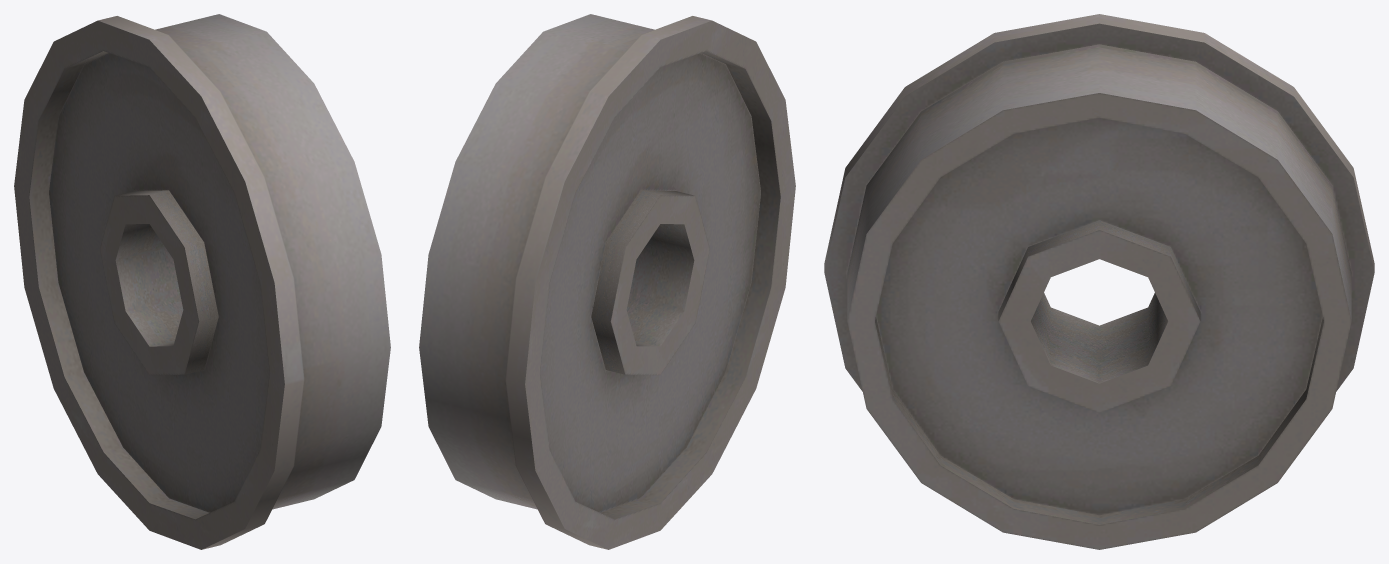
Rendered from props_2fort_trainwheel001.glb.
3 renders of one model, left to right at view 1: azimuth 30°, elevation 25°; view 2: azimuth 150°, elevation 25°; view 3: azimuth 270°, elevation 25°, orthographic.
Parts seen in each view (by area): view 1: models/props_2fort/trainwheel001; view 2: models/props_2fort/trainwheel001; view 3: models/props_2fort/trainwheel001.
Boxes of the visible parts, x1,y1,x2,y2 form: models/props_2fort/trainwheel001: (14, 14, 390, 549); models/props_2fort/trainwheel001: (419, 14, 795, 549); models/props_2fort/trainwheel001: (824, 14, 1374, 549).
Bounding box in the file's own units: 9 × 36 × 36.
Materials: 1 (1 with a texture image).
